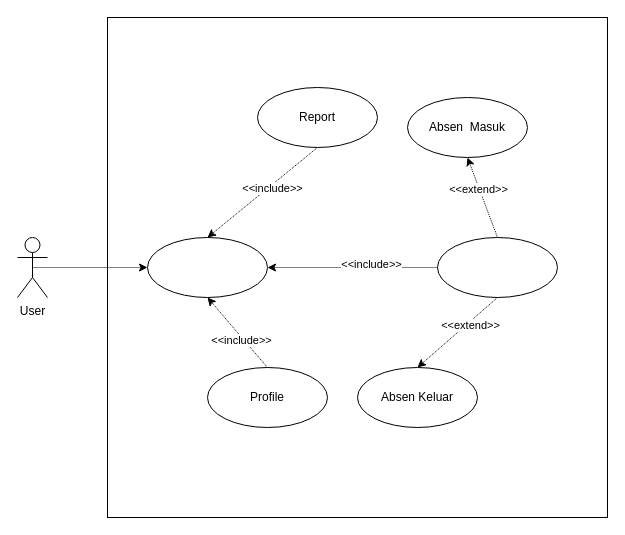
This 625x535 diagram has some shape labels left out. Each missing label, with the centre of its shape:
"Homepage" goes at point (497, 267).
"Login" goes at point (207, 267).
